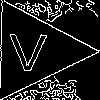V: (9, 25, 48, 71)
